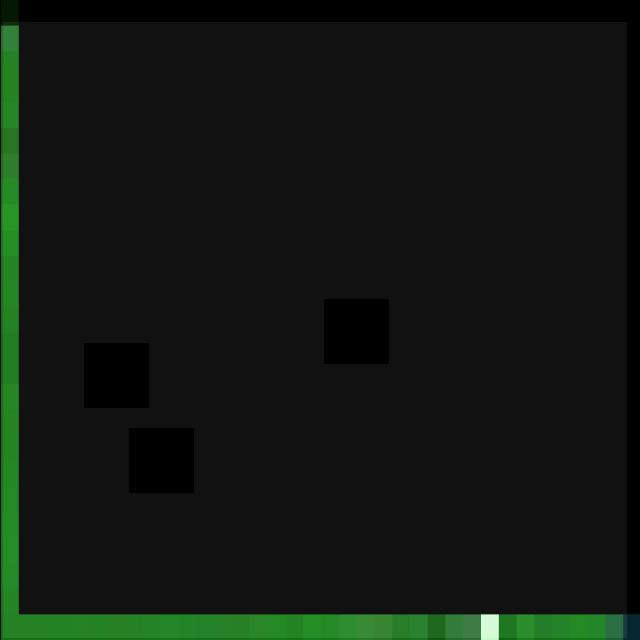nofire: (2, 22, 626, 638)
